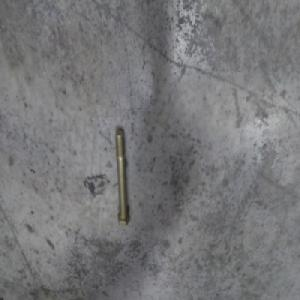Bolt: (113, 129, 131, 229)
